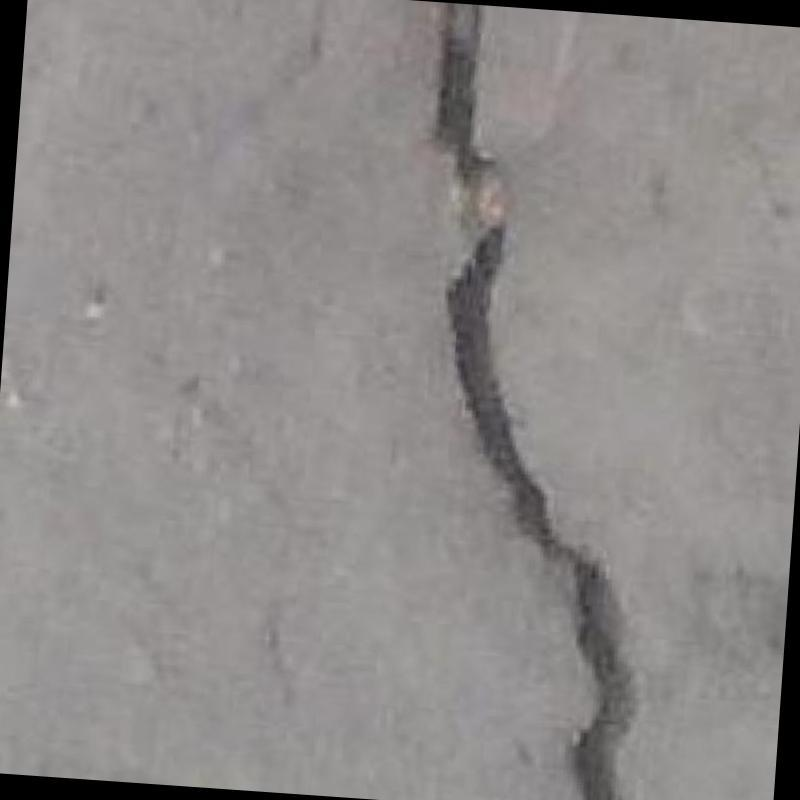pothole: (435, 2, 634, 800)
